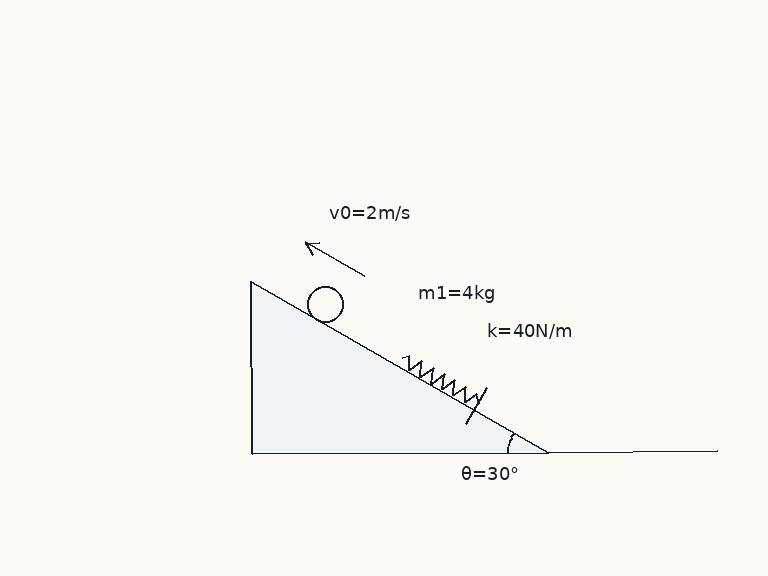ball: (305, 284, 345, 324)
ramp: (250, 280, 550, 455)
spring: (399, 353, 480, 404)
